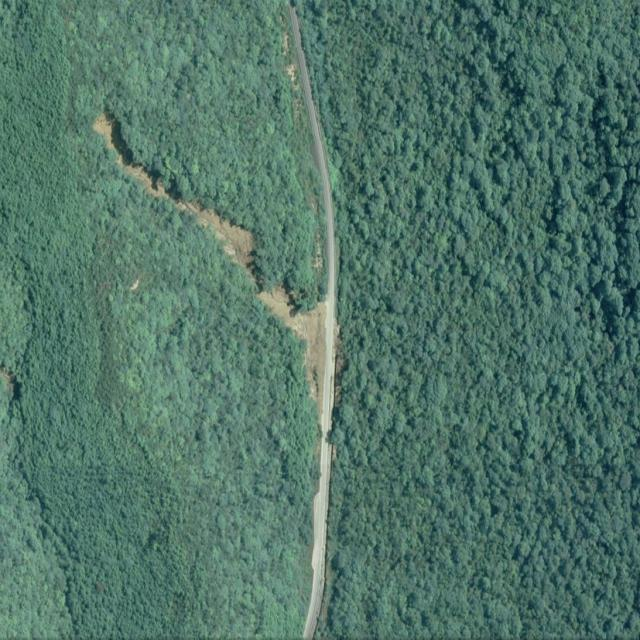landslide: (93, 110, 326, 415)
